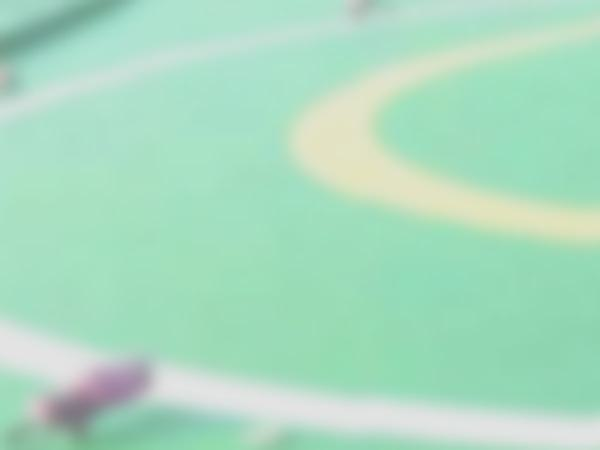Apron: (269, 2, 600, 251)
